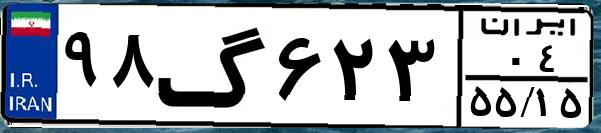0: (508, 27, 537, 80)
1: (535, 70, 560, 125)
2: (330, 28, 385, 110)
3: (385, 28, 445, 110)
4: (537, 27, 568, 80)
5: (560, 70, 590, 125), (470, 70, 495, 125), (495, 70, 520, 125)
6: (270, 28, 330, 110)
8: (110, 28, 156, 98)
9: (57, 26, 110, 100)
گ: (156, 12, 270, 120)
